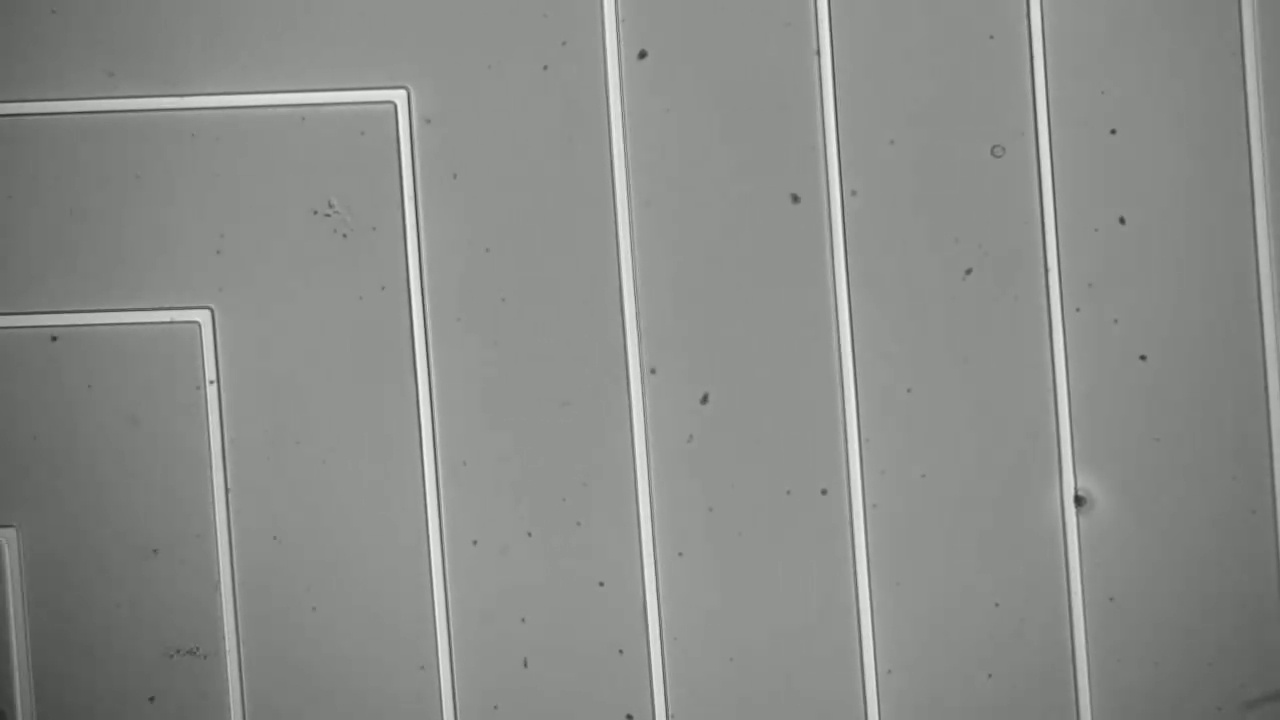stains_enbedded: (1054, 473, 1095, 525)
